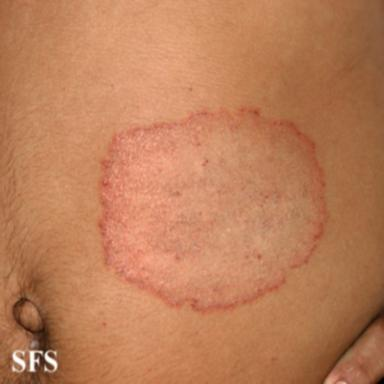Tinea-Corporis: (100, 108, 326, 311)
